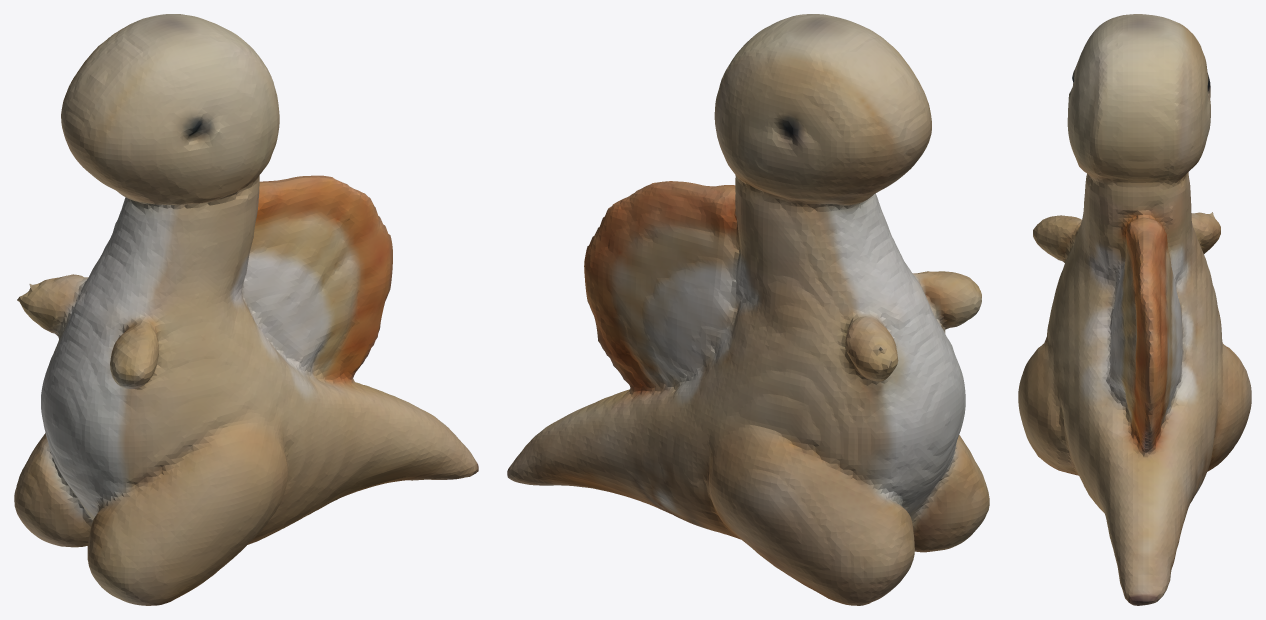
The model's file is dinosaur_doll.obj.
3 views of the same model, side by side, from view 1: azimuth 30°, elevation 25°; view 2: azimuth 150°, elevation 25°; view 3: azimuth 270°, elevation 25° (orthographic). The views are drawn at different scales.
Bounding box in the file's own units: 1.32 × 1.56 × 0.7167.
